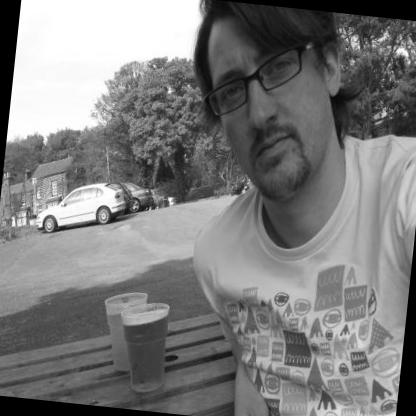car: (27, 174, 135, 243)
